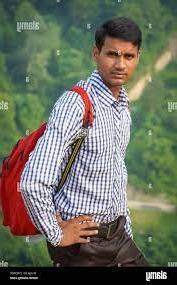Human: (18, 8, 153, 274)
